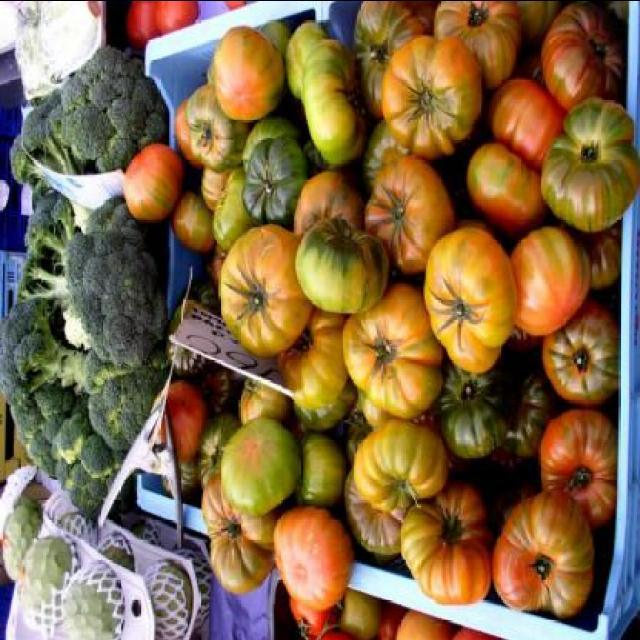Broccoli: (0, 41, 169, 525)
